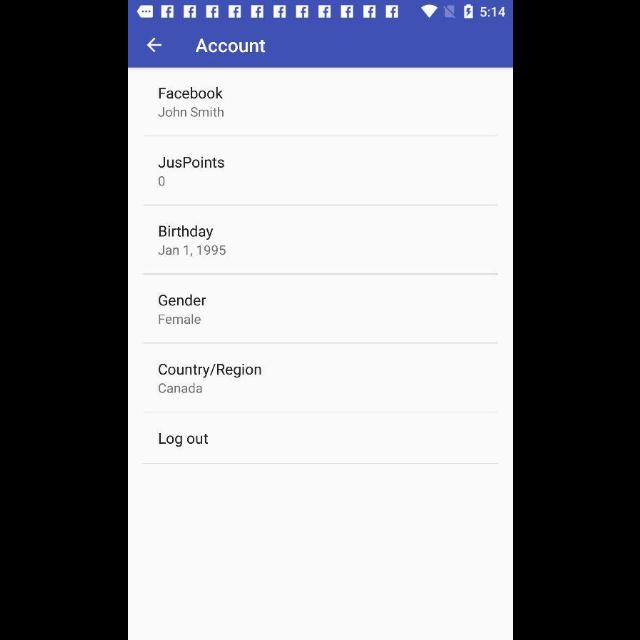icon: (146, 37, 162, 53)
text: (157, 364, 260, 378), (195, 38, 265, 54), (158, 245, 226, 257), (158, 157, 225, 169), (159, 88, 223, 100), (159, 226, 213, 240), (158, 433, 208, 447), (157, 107, 223, 117), (158, 294, 206, 306), (158, 382, 202, 393), (158, 314, 200, 324), (159, 177, 165, 186)
toolbar: (128, 26, 512, 68)
uppertaskbar: (128, 1, 512, 20)
